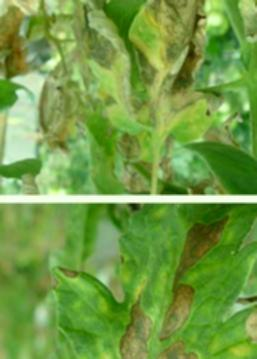Tomato leaf bacterial spot: (34, 214, 257, 359)
